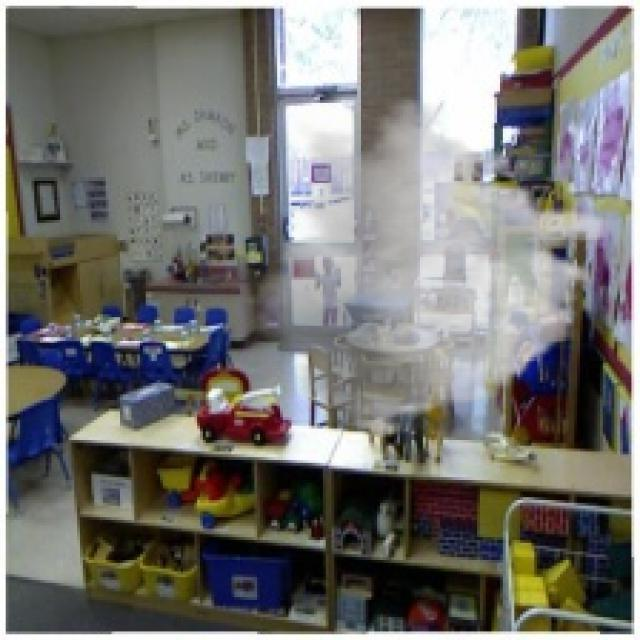Smoke: (237, 97, 620, 443)
